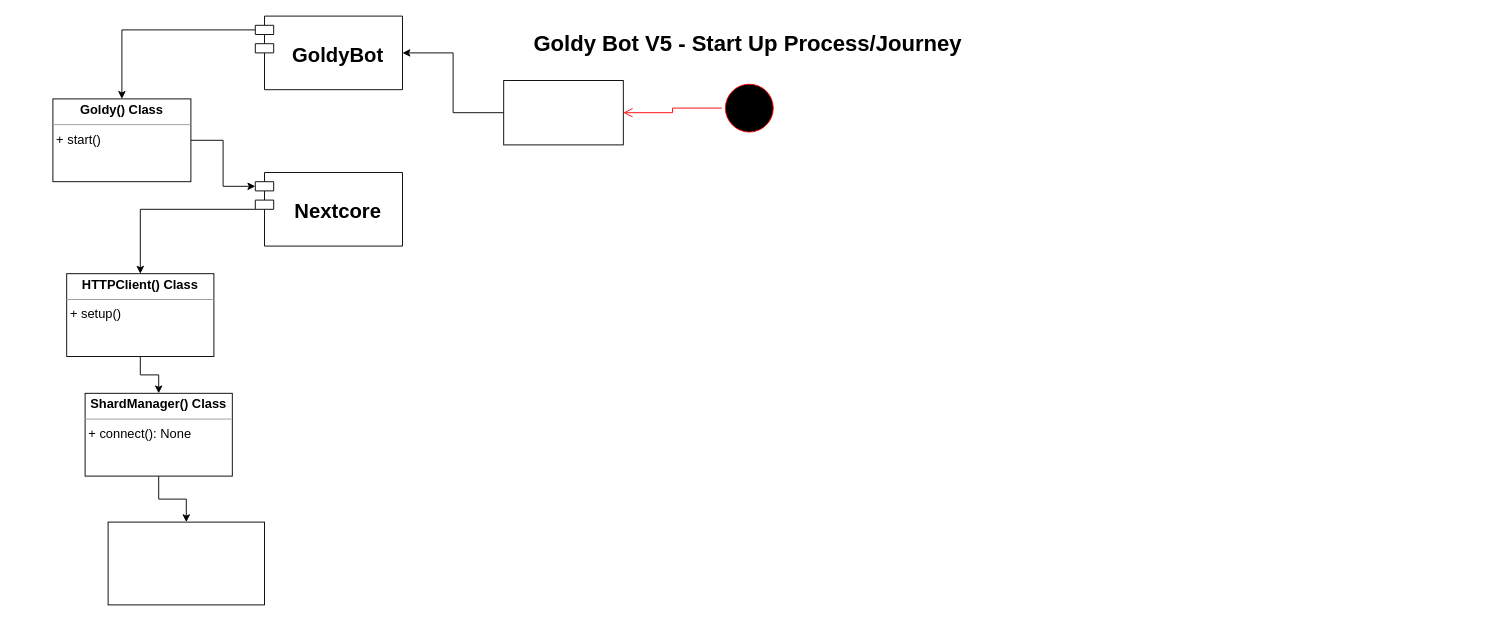
Some shapes in this 1494 by 621 pixel diagram are drawn without their labels. Here are the shapes that lost their labels. From the top down, the centre of each, then its label:
At point (563, 112): "Run Script (run.py)".
At point (185, 563): "ShardManager() Class + dispacher.wait_for()".
